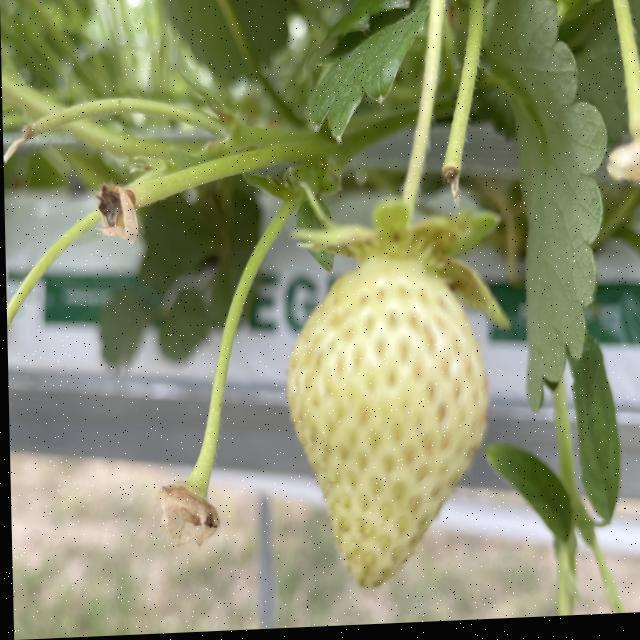stem: (296, 0, 506, 326)
strawberryNR: (288, 256, 488, 586)
